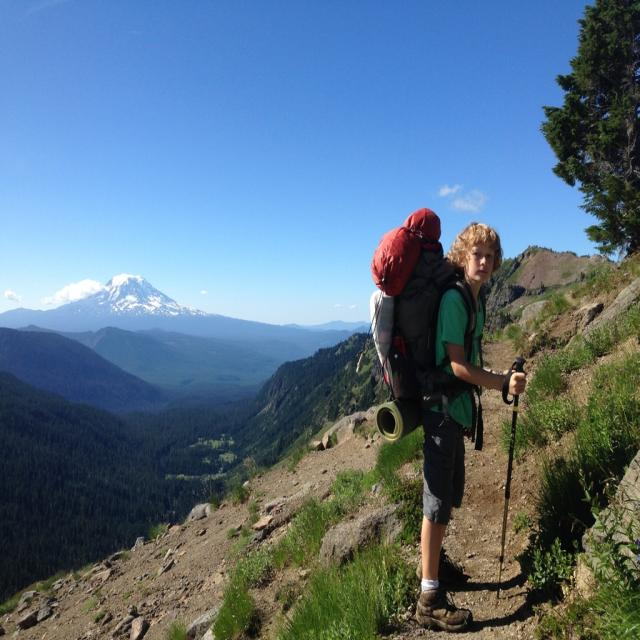backpack: (366, 215, 481, 404)
